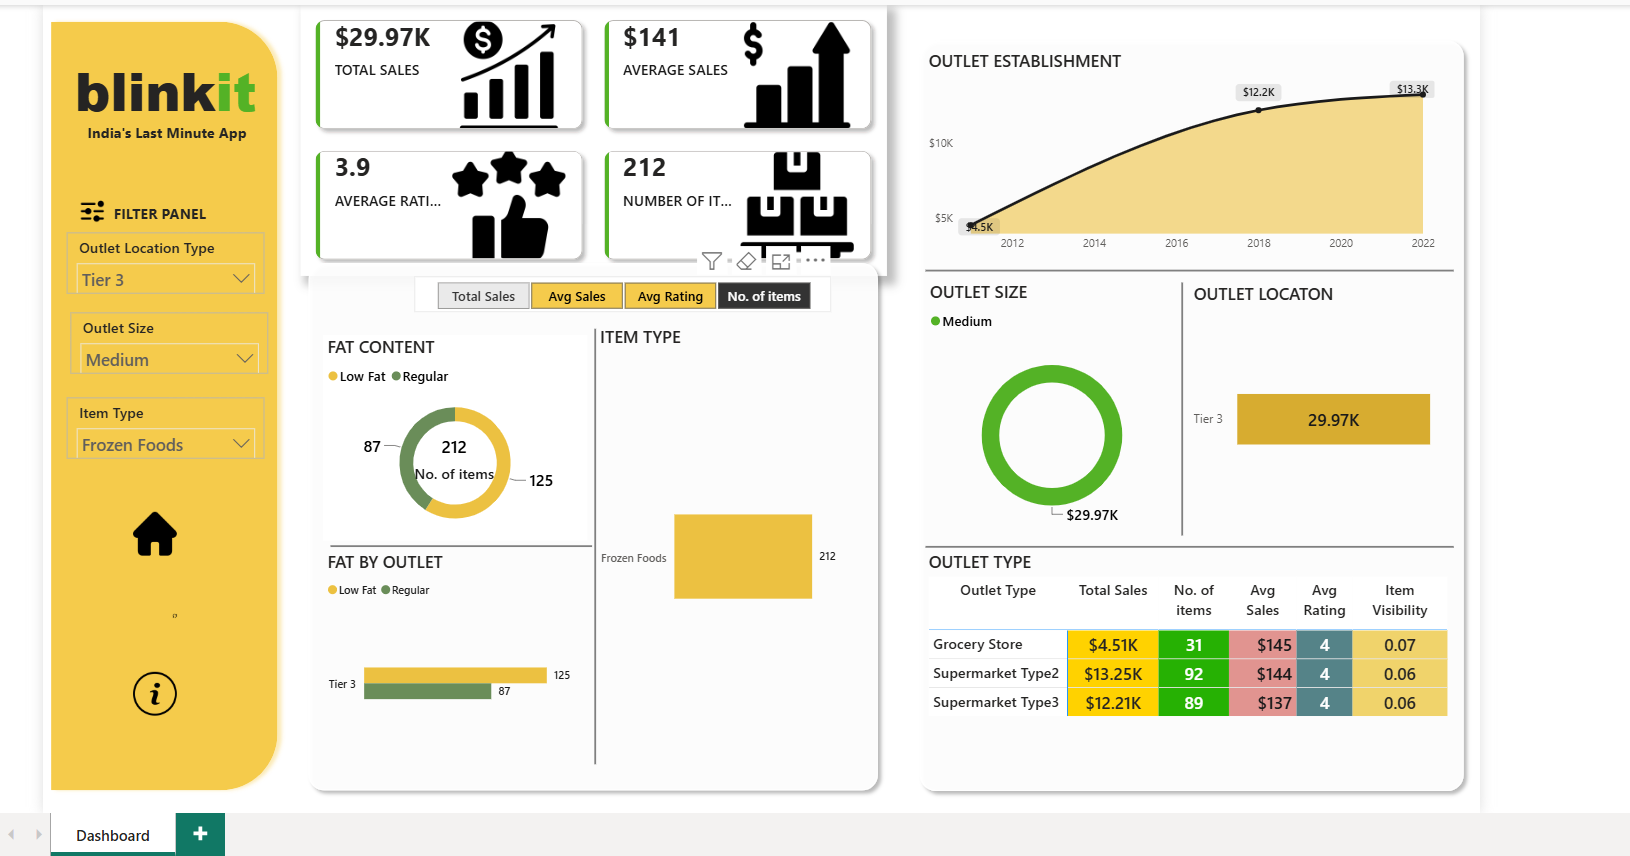

What the dashboard file says about the page in this screenshot:
{"tool":"powerbi","page":{"name":"Dashboard","canvas":[1600,900],"ordinal":0},"visuals":[{"type":"shape","box":[0,10,270,873.3],"z":0},{"type":"textbox","box":[30,48.6,232.9,95.7],"z":1000},{"type":"textbox","box":[44.3,125.7,205.7,37.1],"z":2000},{"type":"cardVisual","fields":{"Data":["BlinkIT Grocery Data.Total Sales","BlinkIT Grocery Data.Avg Sales","BlinkIT Grocery Data.Avg Rating","BlinkIT Grocery Data.Number of items"]},"box":[286.7,36.7,651.7,241.7],"z":3000},{"type":"shape","box":[286.7,278.3,651.7,605],"z":4000},{"type":"donutChart","title":"FAT CONTENT","fields":{"Category":["BlinkIT Grocery Data.Item Fat Content"],"Y":["BlinkIT Grocery Data.Total Sales"]},"box":[311.7,367.3,294.3,228.6],"z":5000},{"type":"slicer","fields":{"Values":["Metrics.Metrics"]},"box":[413.2,301.6,464.5,40.7],"z":6000},{"type":"card","fields":{"Values":["BlinkIT Grocery Data.Total Sales"]},"box":[406.7,456.7,103.3,95],"z":7000},{"type":"clusteredBarChart","title":"FAT BY OUTLET","fields":{"Category":["BlinkIT Grocery Data.Outlet Location Type"],"Series":["BlinkIT Grocery Data.Item Fat Content"],"Y":["BlinkIT Grocery Data.Total Sales"]},"box":[311.7,606.7,295,238.3],"z":8000},{"type":"shape","box":[320,580,291.4,44.3],"z":9000},{"type":"shape","box":[595,360,38.3,485],"z":10000},{"type":"barChart","title":"ITEM TYPE","fields":{"Category":["BlinkIT Grocery Data.Item Type"],"Y":["BlinkIT Grocery Data.Total Sales"]},"box":[615,356.7,310,488.3],"z":11000},{"type":"shape","box":[966.7,30,623.3,853.3],"z":12000},{"type":"lineChart","title":"OUTLET ESTABLISHMENT","fields":{"Category":["BlinkIT Grocery Data.Outlet Establishment Year"],"Y":["BlinkIT Grocery Data.Total Sales"]},"box":[981.7,48.3,573.3,235],"z":13000},{"type":"shape","box":[981.7,279,588.1,34.7],"z":14000},{"type":"donutChart","title":"OUTLET SIZE","fields":{"Category":["BlinkIT Grocery Data.Outlet Size"],"Y":["BlinkIT Grocery Data.Total Sales"]},"box":[981.7,306.1,282,289.5],"z":15000},{"type":"shape","box":[1248.3,308.3,40,281.7],"z":16000},{"type":"funnel","title":"OUTLET LOCATON","fields":{"Category":["BlinkIT Grocery Data.Outlet Location Type"],"Y":["Sum(BlinkIT Grocery Data.Sales)"]},"box":[1276.7,308.3,278.3,280],"z":17000},{"type":"shape","box":[981.7,585.1,588.1,34.7],"z":18000},{"type":"pivotTable","title":"OUTLET TYPE","fields":{"Rows":["BlinkIT Grocery Data.Outlet Type"],"Values":["BlinkIT Grocery Data.Total Sales","BlinkIT Grocery Data.No. of items","BlinkIT Grocery Data.Avg Sales","BlinkIT Grocery Data.Avg Rating","Avg(BlinkIT Grocery Data.Item Visibility)"]},"box":[981.7,606.7,588.3,238.3],"z":19000},{"type":"slicer","fields":{"Values":["BlinkIT Grocery Data.Outlet Location Type"]},"box":[26.7,253.3,220,68.3],"z":20000},{"type":"slicer","fields":{"Values":["BlinkIT Grocery Data.Outlet Size"]},"box":[30,341.7,220,68.3],"z":21000},{"type":"slicer","fields":{"Values":["BlinkIT Grocery Data.Item Type"]},"box":[26.7,436.7,220,68.3],"z":22000},{"type":"textbox","box":[74.2,215.7,123.7,37.7],"z":23000},{"type":"image","box":[95,559.5,60.3,58.8],"z":24000},{"type":"image","box":[36.5,206.6,37.7,46.7],"z":25000},{"type":"image","box":[139.8,649.6,15.1,60.2],"z":26000},{"type":"image","box":[95,737.4,60.3,58.8],"z":28000}]}

Visuals, with their boxes on the page's 1600x900 design canvas (x1, y1, x2, y2). These are canvas units, not pixel positions in the 1630x856 screenshot, which may show the page scaled, cropped or inside an application window:
shape: 0 10 270 883
textbox: 30 49 263 144
textbox: 44 126 250 163
cardVisual - BlinkIT Grocery Data.Total Sales x BlinkIT Grocery Data.Avg Sales: 287 37 938 278
shape: 287 278 938 883
"FAT CONTENT" donutChart: 312 367 606 596
slicer - Metrics.Metrics: 413 302 878 342
card - BlinkIT Grocery Data.Total Sales: 407 457 510 552
"FAT BY OUTLET" clusteredBarChart: 312 607 607 845
shape: 320 580 611 624
shape: 595 360 633 845
"ITEM TYPE" barChart: 615 357 925 845
shape: 967 30 1590 883
"OUTLET ESTABLISHMENT" lineChart: 982 48 1555 283
shape: 982 279 1570 314
"OUTLET SIZE" donutChart: 982 306 1264 596
shape: 1248 308 1288 590
"OUTLET LOCATON" funnel: 1277 308 1555 588
shape: 982 585 1570 620
"OUTLET TYPE" pivotTable: 982 607 1570 845
slicer - BlinkIT Grocery Data.Outlet Location Type: 27 253 247 322
slicer - BlinkIT Grocery Data.Outlet Size: 30 342 250 410
slicer - BlinkIT Grocery Data.Item Type: 27 437 247 505
textbox: 74 216 198 253
image: 95 560 155 618
image: 36 207 74 253
image: 140 650 155 710
image: 95 737 155 796
